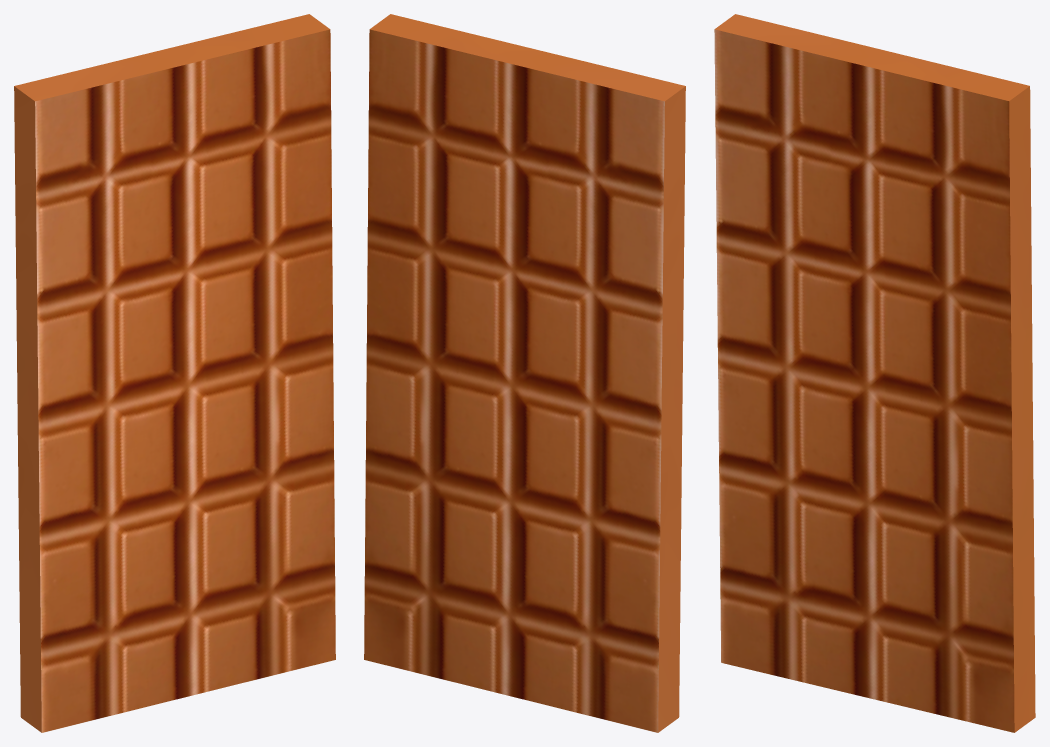
The model's file is brown_chocolate.glb.
The picture shows the model from 3 angles, left to right: view 1: azimuth 30°, elevation 25°; view 2: azimuth 150°, elevation 25°; view 3: azimuth 330°, elevation 25°; orthographic projection.
Parts seen in each view (by area): view 1: Brown_Chocolate; view 2: Brown_Chocolate; view 3: Brown_Chocolate.
Part boxes in pixels (left/top/right/bottom): Brown_Chocolate: left=14, top=14, right=335, bottom=732; Brown_Chocolate: left=364, top=14, right=685, bottom=732; Brown_Chocolate: left=714, top=14, right=1035, bottom=732.
Bounding box in the file's own units: 0.3554 × 0.7151 × 0.043.
Materials: 1 (1 with a texture image).
